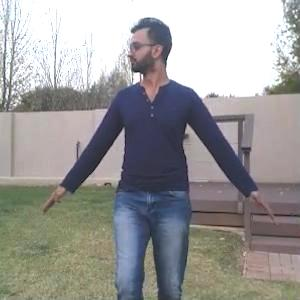land: (44, 21, 296, 297)
